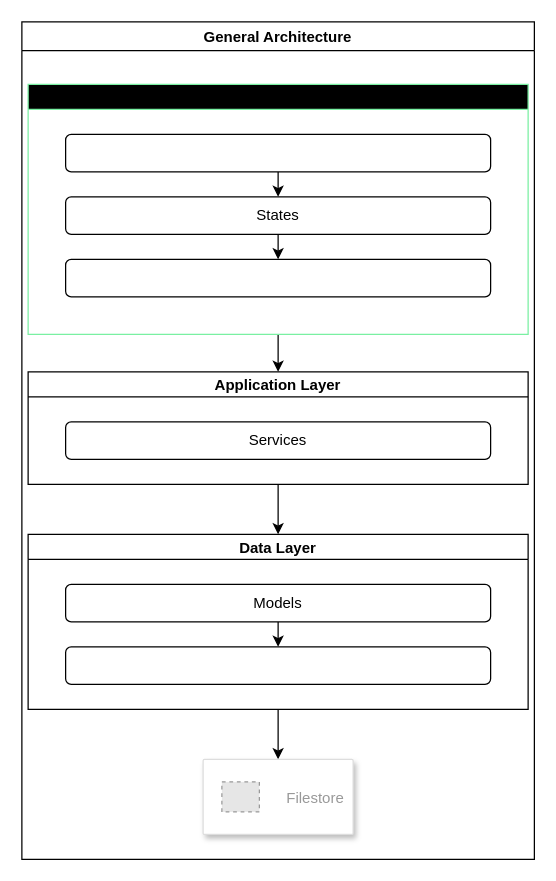
The diagram is 556 pixels wide and 881 high, and some of its shapes have lost their labels. Grey dashed boxes stand in for pictures. The centre of each missing label's shape, as x and y in pixels:
Controlers: pixel 277 277
Repositories: pixel 277 665
Widgets: pixel 277 152
